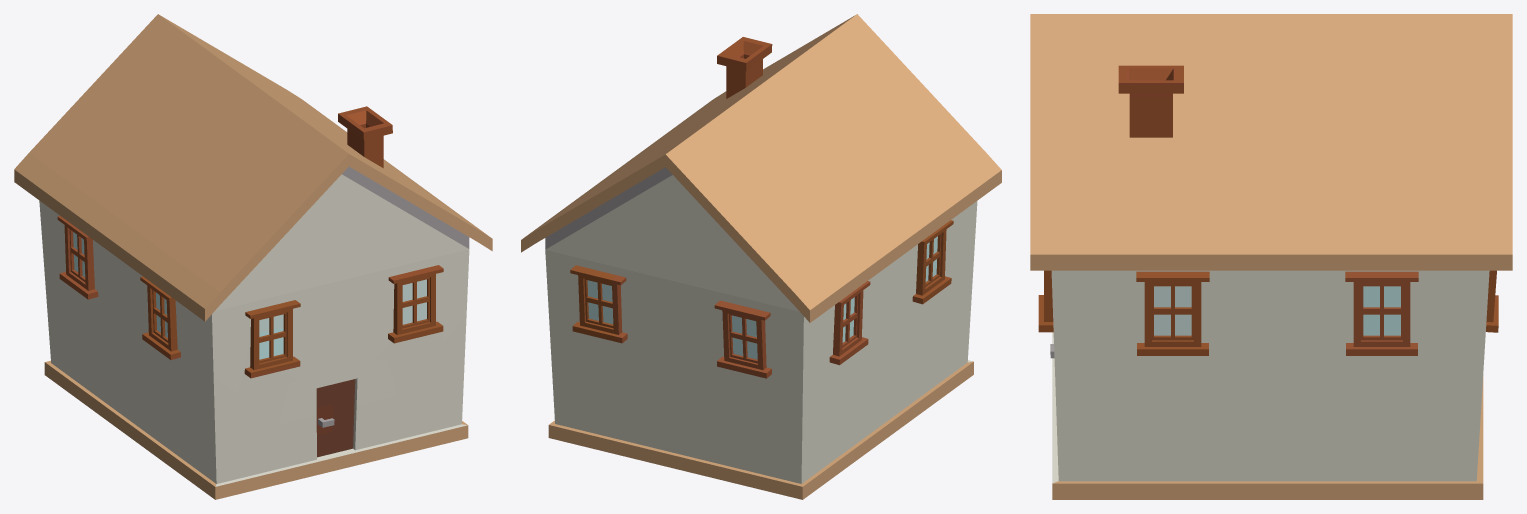
File: hut-a.glb
The picture shows the model from 3 angles, left to right: view 1: azimuth 30°, elevation 25°; view 2: azimuth 150°, elevation 25°; view 3: azimuth 270°, elevation 25°; orthographic projection. The views are drawn at different scales.
Visible parts, largest first — view 1: House2_Cube.035; view 2: House2_Cube.035; view 3: House2_Cube.035.
Part boxes in pixels (x1,y1,x2,y2): House2_Cube.035: (14,14,492,499); House2_Cube.035: (521,14,1001,499); House2_Cube.035: (1030,14,1512,499).
Bounding box in the file's own units: 1.25 × 1.34 × 1.44.
Materials: 1 (1 with a texture image).
